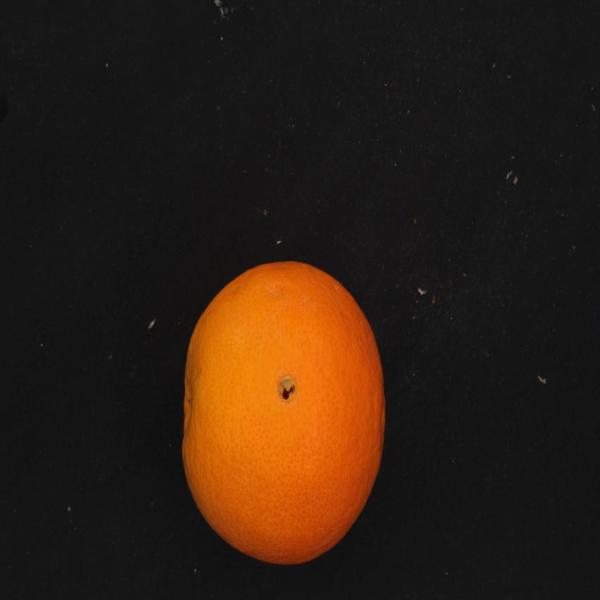Sana: (162, 246, 397, 576)
